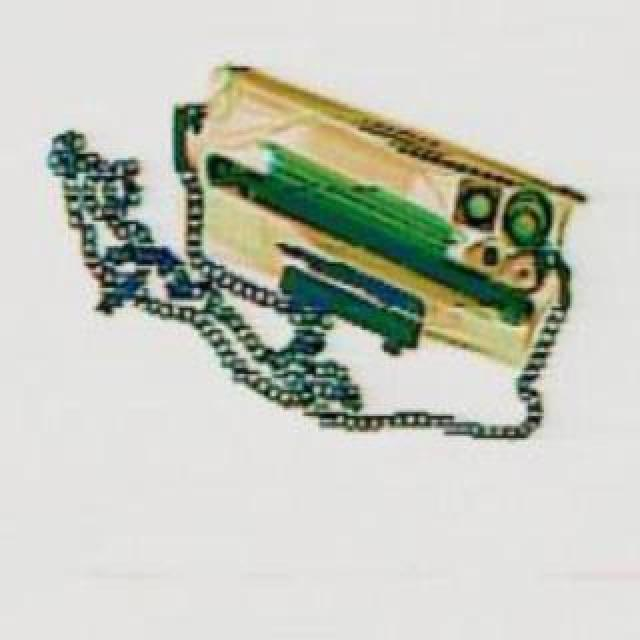knife: (266, 226, 426, 314)
